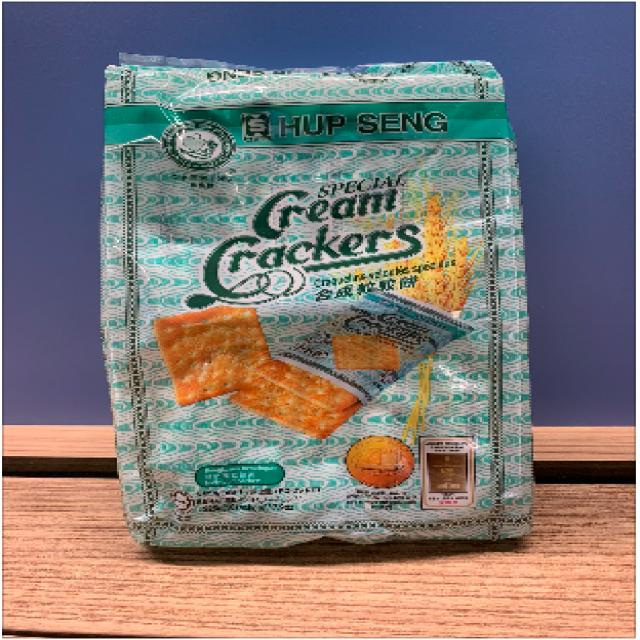object_name: (138, 76, 510, 553)
